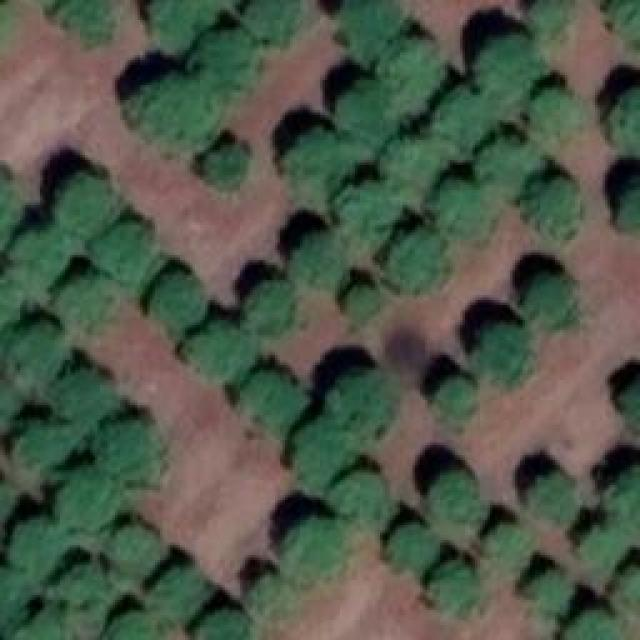Tree: (297, 373, 395, 488), (15, 373, 123, 463), (128, 73, 221, 148), (580, 462, 640, 570), (335, 80, 403, 155), (188, 28, 258, 93), (383, 38, 443, 108), (435, 82, 488, 160), (98, 420, 158, 483), (280, 132, 345, 190), (480, 35, 538, 100), (188, 320, 253, 375), (338, 180, 403, 235), (342, 0, 399, 62), (382, 135, 440, 195), (58, 470, 118, 528), (245, 373, 300, 433), (525, 178, 580, 238), (283, 520, 343, 575), (330, 473, 388, 528), (95, 225, 153, 278), (10, 520, 63, 578), (393, 230, 448, 285), (473, 138, 533, 188), (430, 470, 480, 530), (152, 0, 209, 52), (10, 230, 65, 283), (60, 172, 110, 230), (155, 275, 203, 335), (0, 325, 62, 370), (148, 570, 208, 615), (290, 233, 343, 283), (247, 283, 295, 336), (475, 325, 528, 373), (440, 178, 485, 233), (520, 275, 573, 320), (530, 475, 578, 523), (58, 273, 108, 318), (59, 0, 112, 42), (385, 525, 433, 570), (55, 565, 110, 603), (533, 85, 578, 130), (430, 563, 475, 608), (110, 528, 160, 568), (437, 375, 475, 425), (250, 0, 295, 42), (205, 140, 248, 183), (610, 85, 640, 145), (525, 570, 570, 610), (565, 610, 625, 640), (198, 610, 253, 640), (102, 612, 160, 640), (615, 173, 640, 233), (0, 568, 25, 628), (13, 615, 73, 640), (610, 0, 640, 48), (485, 525, 528, 558), (253, 578, 296, 611), (617, 562, 640, 615), (530, 0, 567, 32), (345, 288, 380, 321), (0, 378, 25, 421), (617, 379, 640, 422), (0, 280, 20, 328), (0, 480, 18, 515)
